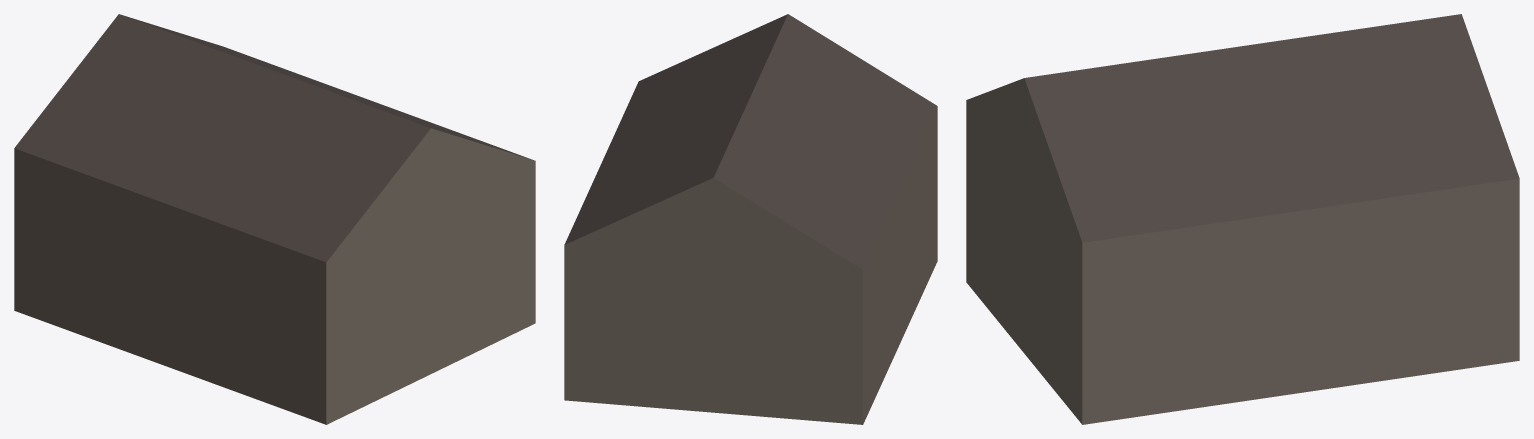
3 views of the same model, side by side, from view 1: azimuth 30°, elevation 25°; view 2: azimuth 150°, elevation 25°; view 3: azimuth 270°, elevation 25° (orthographic). The views are drawn at different scales.
Visible parts, largest first — view 1: HP-w1376988806; view 2: HP-w1376988806; view 3: HP-w1376988806.
Boxes of the visible parts, x1,y1,x2,y2 form: HP-w1376988806: (14, 14, 535, 424); HP-w1376988806: (564, 14, 937, 424); HP-w1376988806: (966, 14, 1519, 424).
Size of the model in its own units: 14.62 by 9.08 by 16.53.
